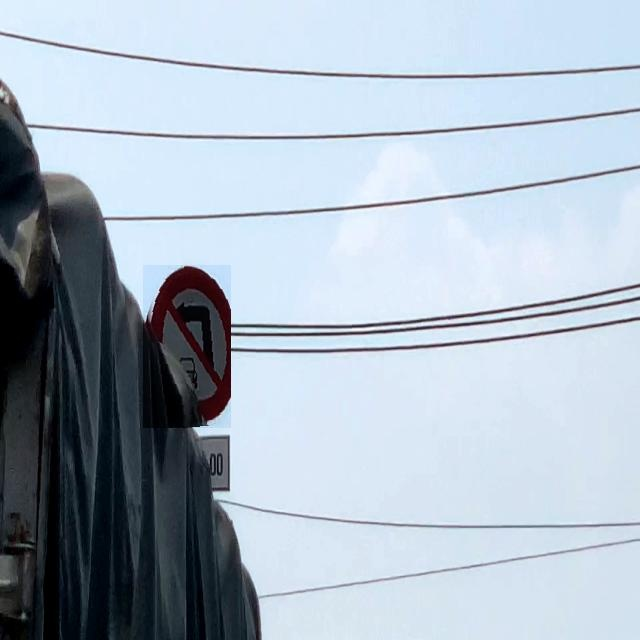bien_cam: (143, 265, 231, 428)
